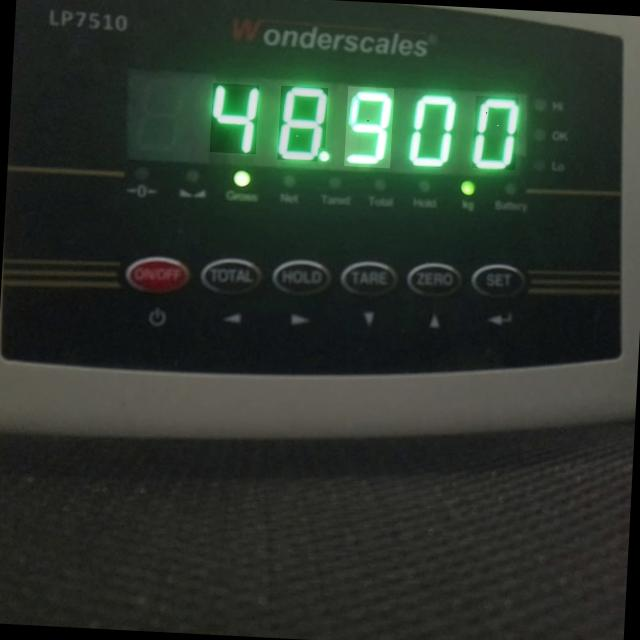.: (318, 148, 337, 166)
0: (408, 92, 458, 168), (472, 96, 519, 170)
4: (210, 83, 259, 154)
8: (277, 86, 328, 162)
9: (344, 86, 394, 168)
